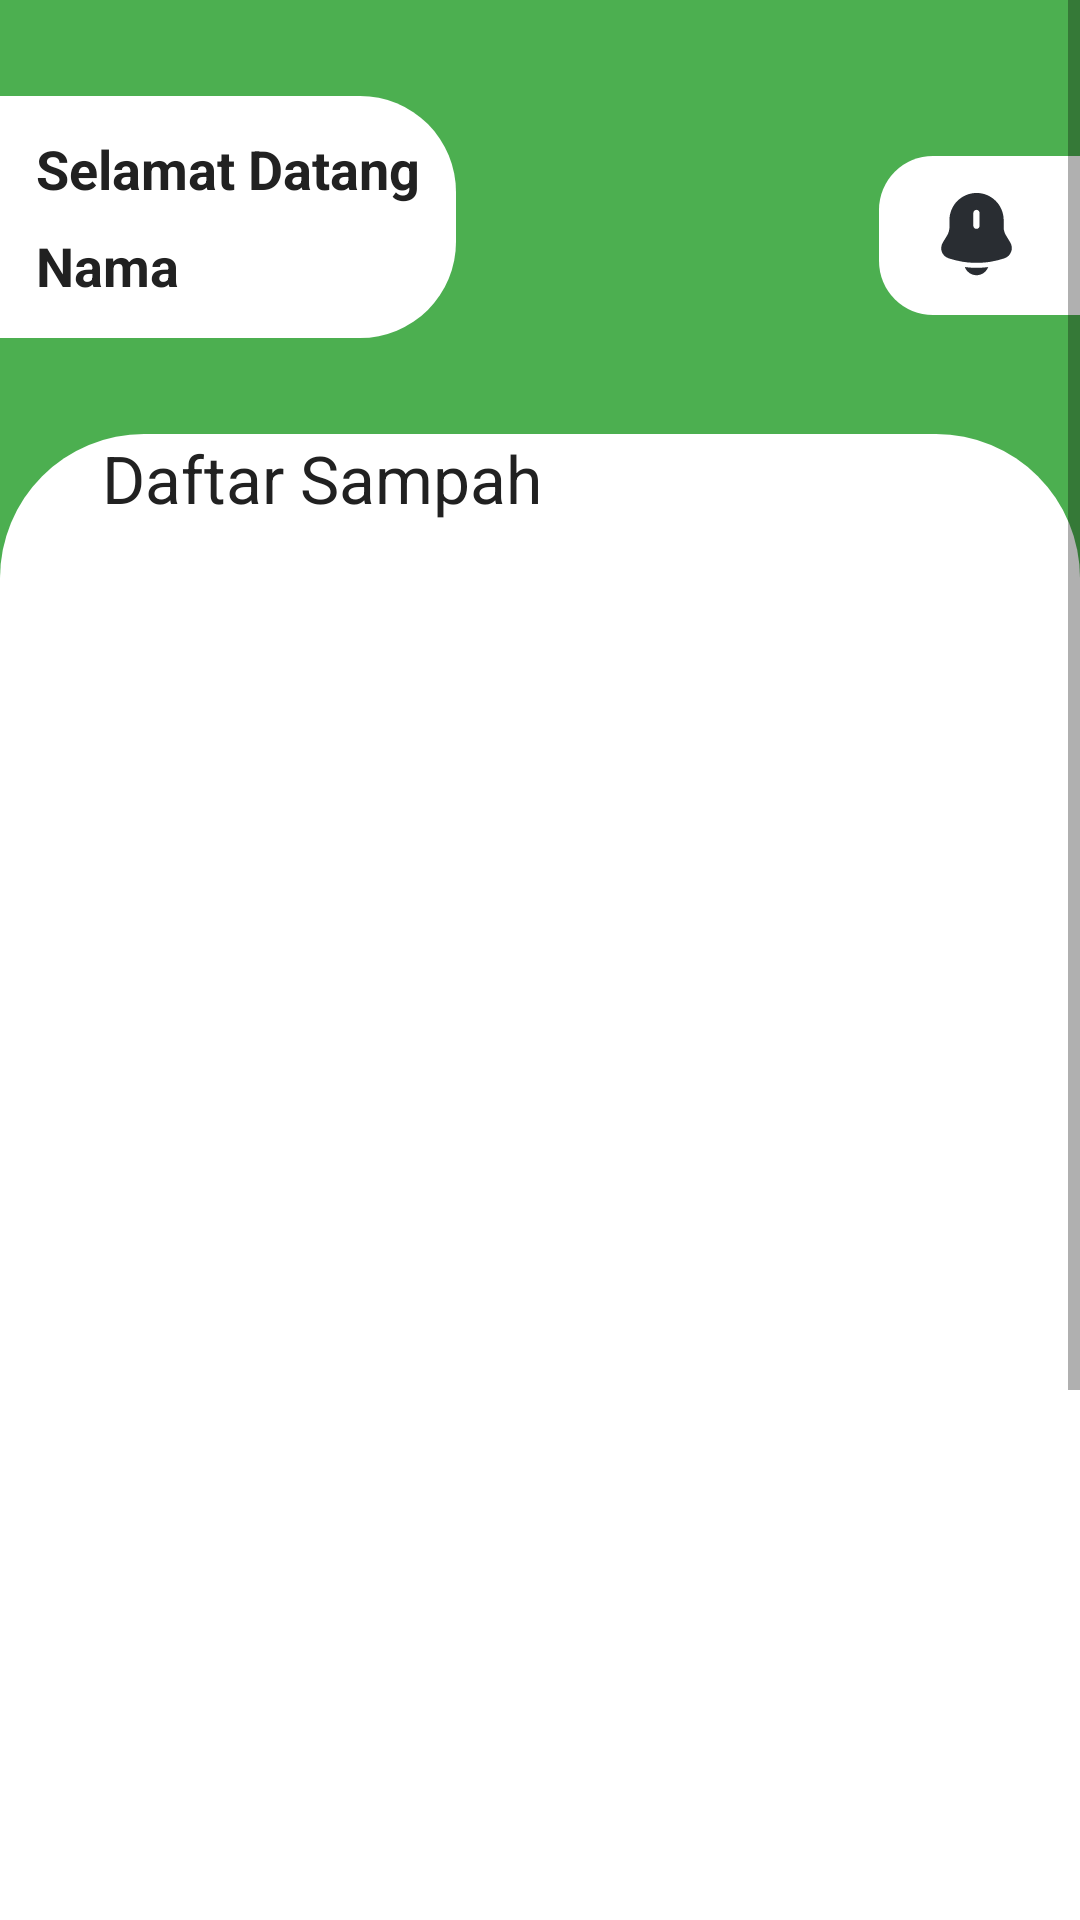

Icon bounding boxes for this 1080*1920 phone screenshot, format [x1=x1, y1=y1, x2=x2, y2=y2]:
notification: [x1=941, y1=193, x2=1012, y2=276]
